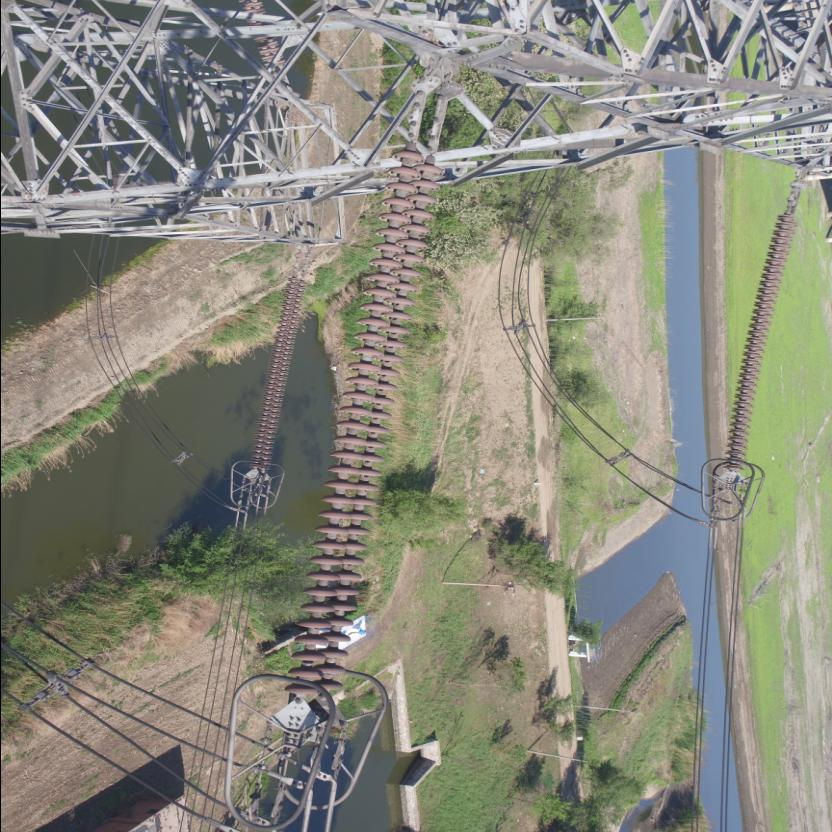insulator: (281, 119, 445, 717), (720, 192, 802, 476), (248, 260, 312, 476)
